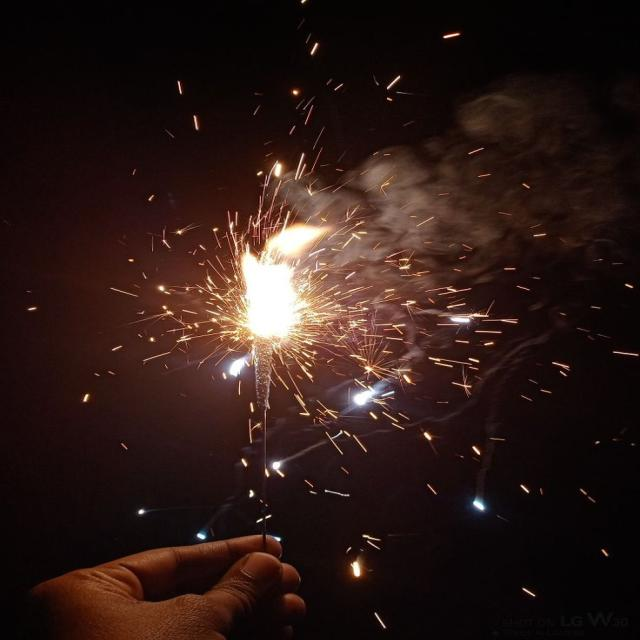fire: (240, 251, 306, 341), (263, 223, 334, 257)
